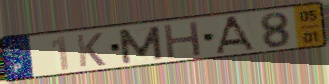1: (50, 35, 70, 72)
8: (257, 11, 292, 49)
A: (214, 14, 258, 55)
H: (161, 19, 204, 61)
K: (74, 31, 108, 69)
M: (116, 25, 166, 66)
